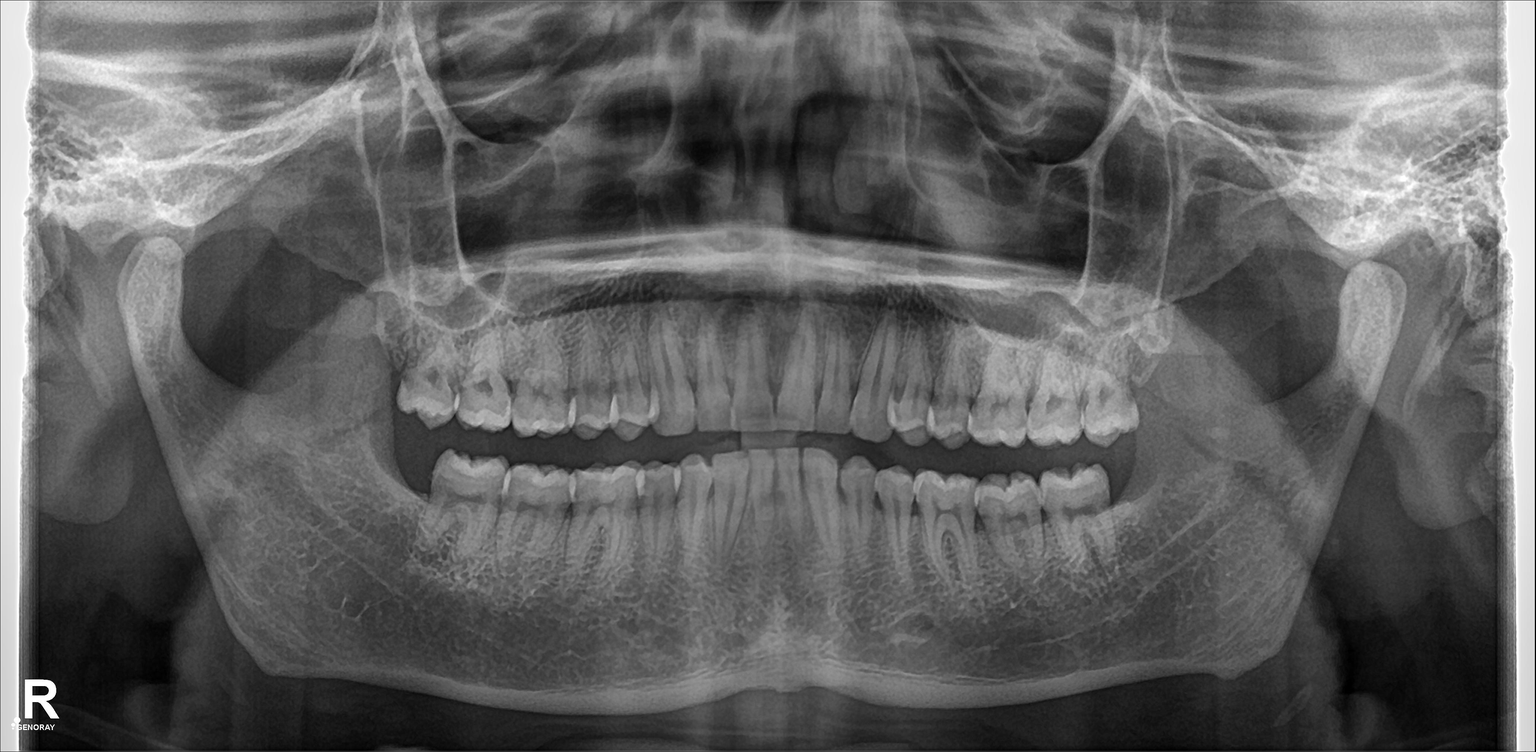Missing Tooth: (372, 441, 429, 524), (1112, 449, 1149, 506)
